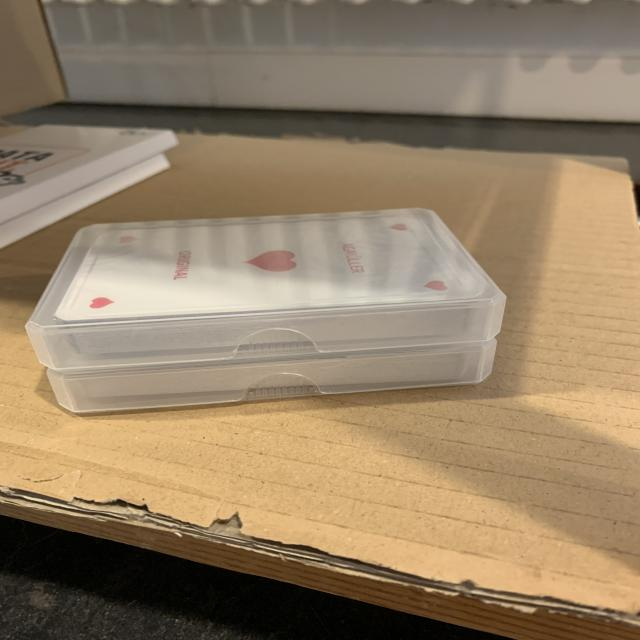Jasskarte: (25, 206, 506, 368), (47, 339, 496, 413)
